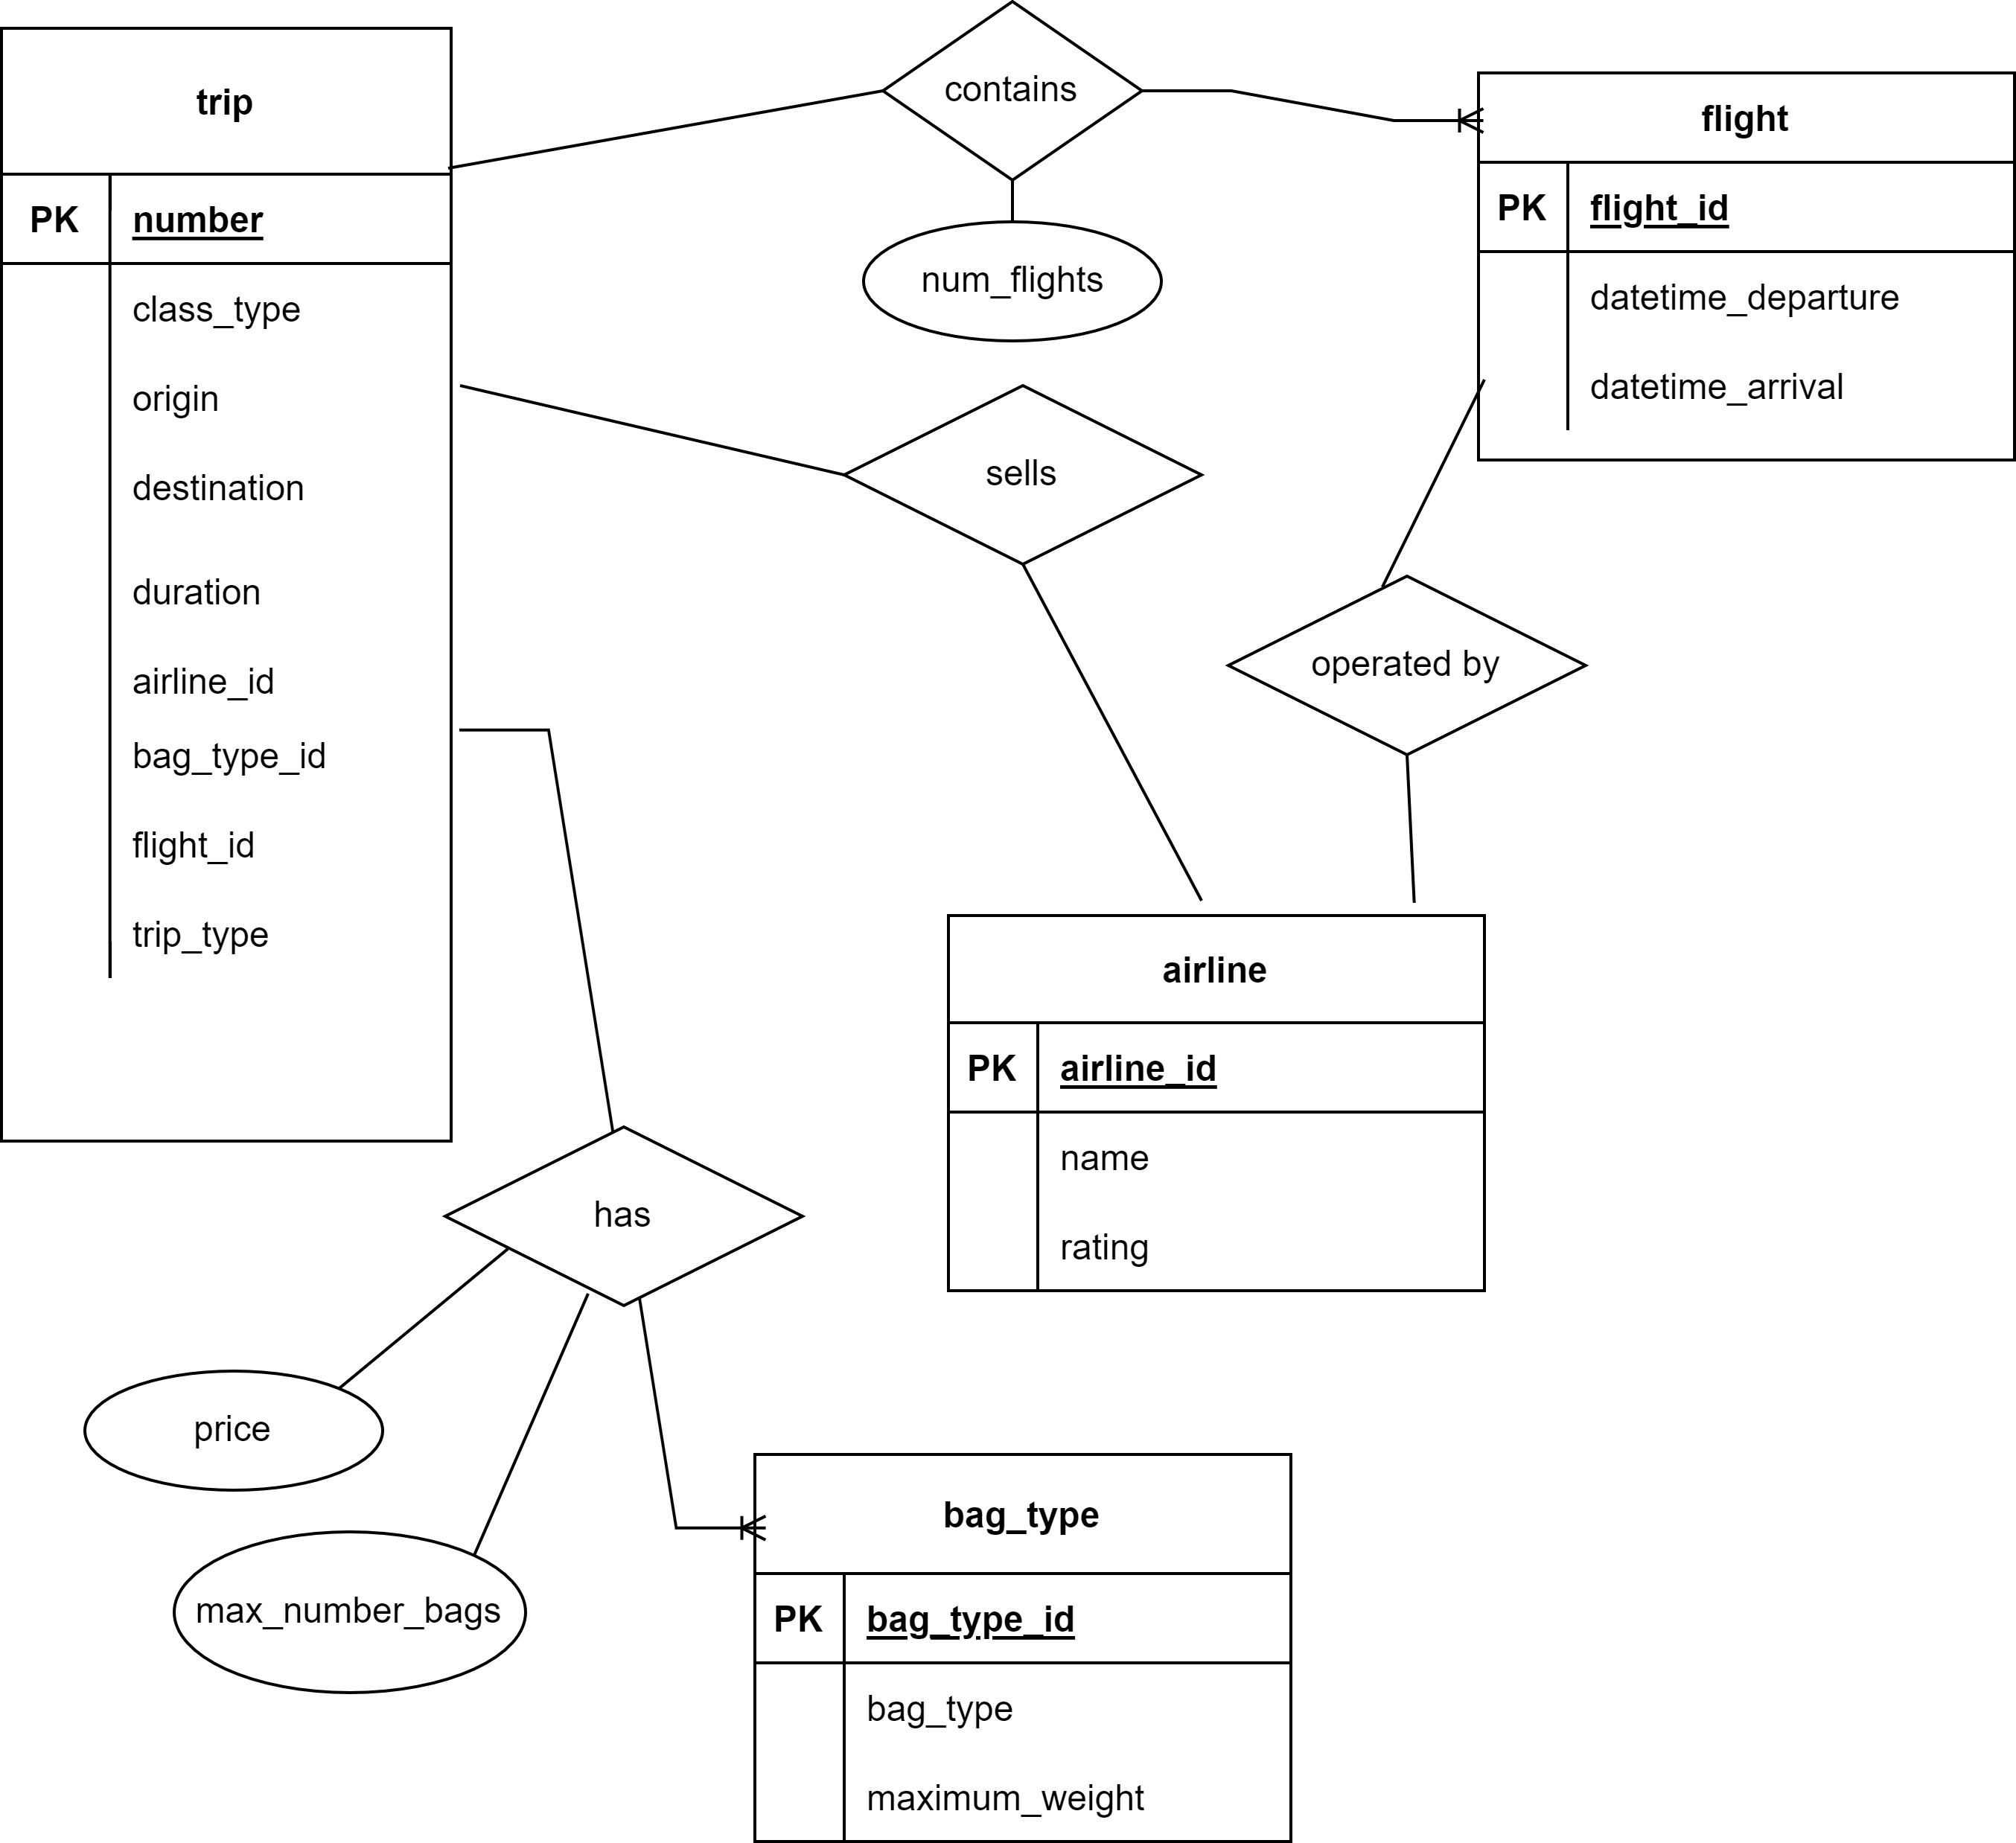entity: (4, 32, 455, 1141), (1477, 75, 2012, 462), (755, 1455, 1294, 1838), (948, 913, 1482, 1292)
many: (1398, 104, 1489, 140), (673, 1513, 767, 1548)
rel: (1228, 577, 1593, 758), (443, 1129, 799, 1306), (850, 384, 1199, 562), (889, 2, 1140, 181)
rel_attr: (170, 1529, 530, 1697), (84, 1369, 386, 1488), (866, 223, 1159, 342)
